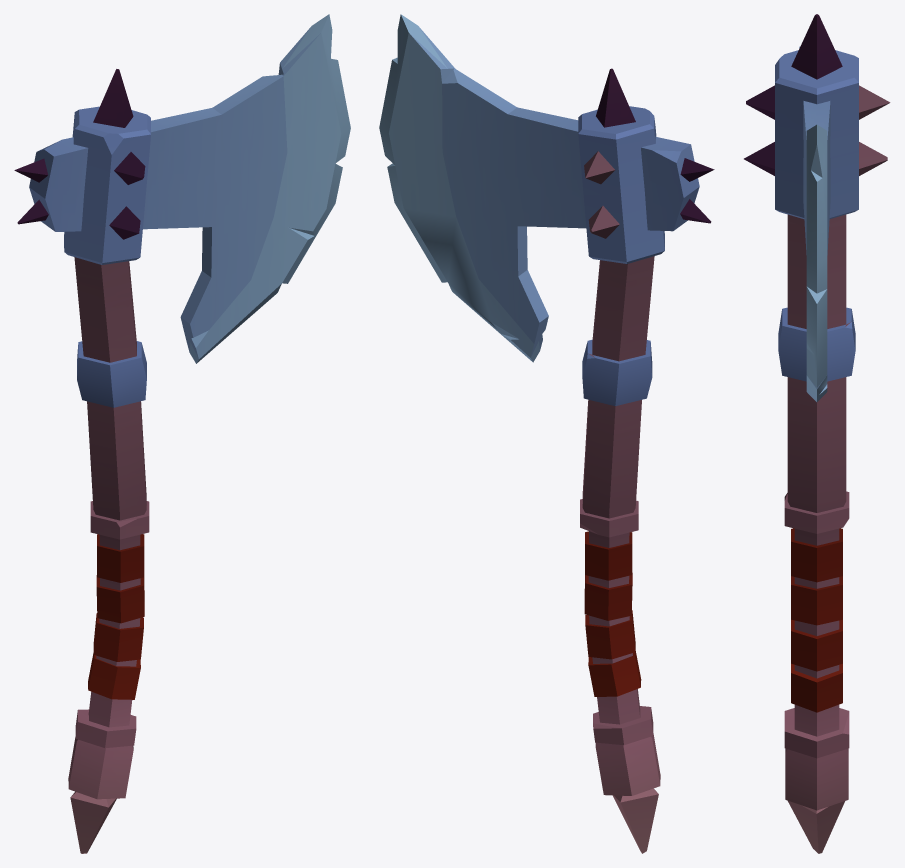
The model's file is Proto_Axe_01.fbx.
3 views of the same model, side by side, from view 1: azimuth 30°, elevation 25°; view 2: azimuth 150°, elevation 25°; view 3: azimuth 270°, elevation 25° (orthographic). The views are drawn at different scales.
Visible parts, largest first — view 1: Proto_Axe_01; view 2: Proto_Axe_01; view 3: Proto_Axe_01.
Boxes of the visible parts, x1,y1,x2,y2 form: Proto_Axe_01: (14,14,350,853); Proto_Axe_01: (379,14,714,853); Proto_Axe_01: (744,14,890,853).
Bounding box in the file's own units: 38.2 × 84.73 × 13.17.
